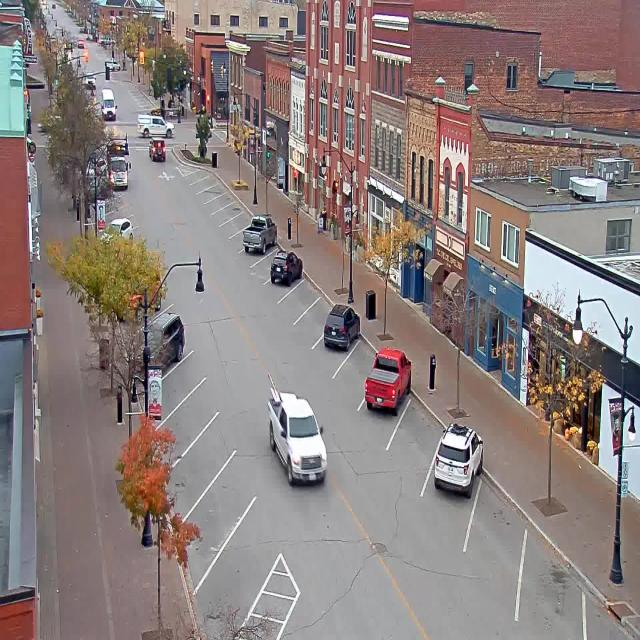available: (515, 512, 599, 632), (460, 452, 533, 571), (209, 510, 284, 620), (187, 460, 248, 560), (579, 555, 636, 640), (395, 380, 450, 468), (175, 428, 232, 502), (165, 388, 212, 460), (160, 350, 205, 410), (343, 321, 385, 381), (306, 285, 340, 331), (291, 266, 320, 312), (266, 228, 286, 261), (228, 192, 245, 220), (237, 203, 254, 228), (213, 176, 230, 200), (222, 183, 238, 207), (204, 167, 220, 190), (196, 160, 211, 182)
occupied: (434, 421, 484, 498), (364, 346, 412, 414), (142, 309, 185, 364), (323, 302, 360, 351), (242, 214, 277, 254), (270, 250, 302, 286)
